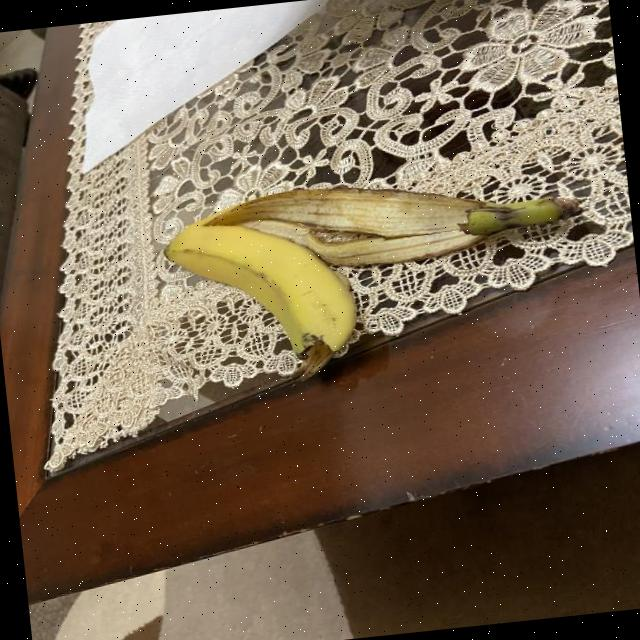banana-peel: (157, 156, 598, 392), (195, 157, 586, 284), (159, 204, 363, 388)
